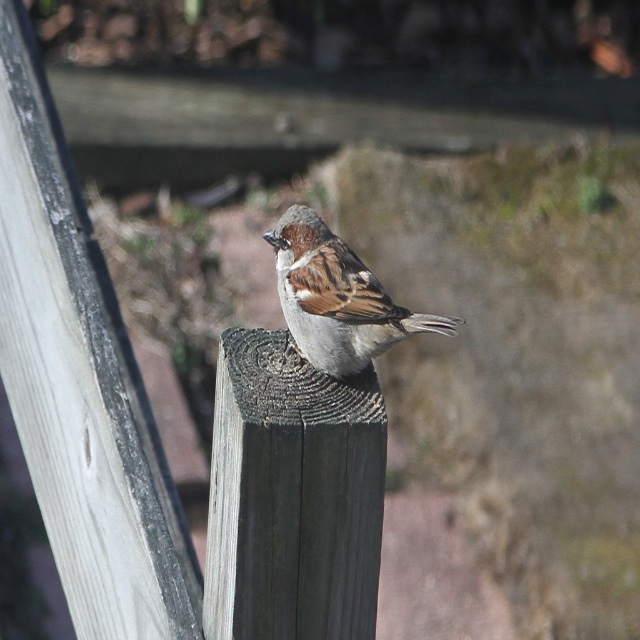Sparrow: (262, 204, 465, 382)
